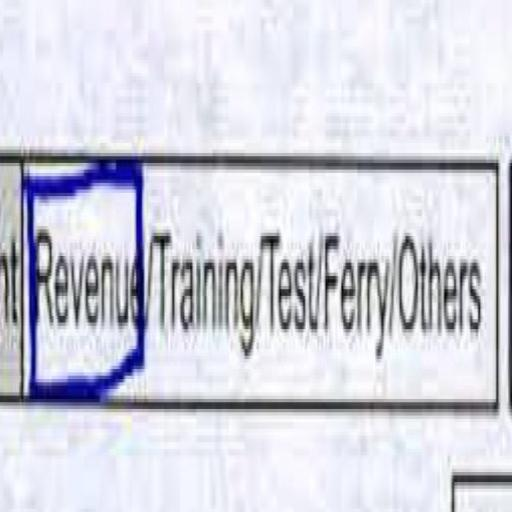check: (24, 119, 149, 453)
